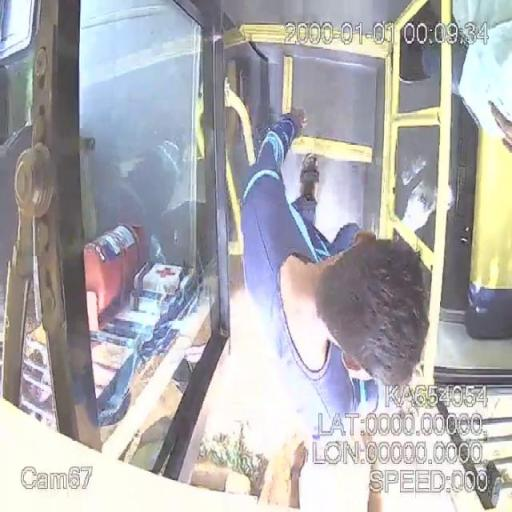persona: (237, 100, 431, 444)
